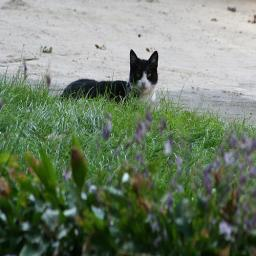catnose: (140, 80, 148, 87)
